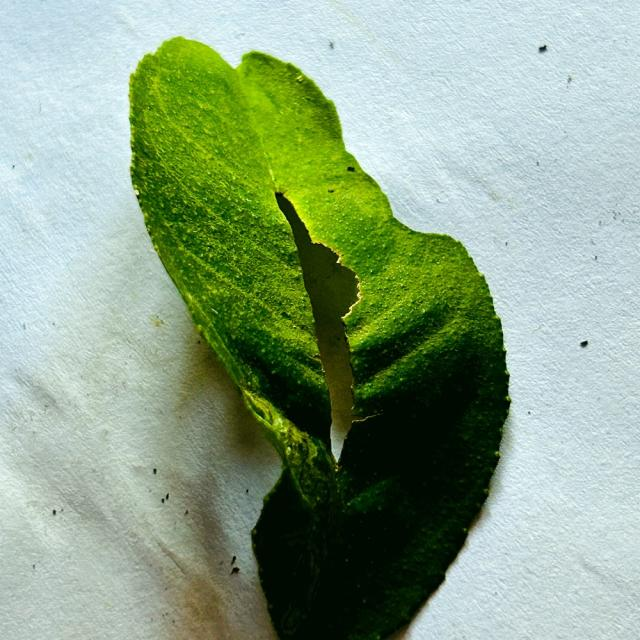Deficiency Leaf: (276, 193, 358, 447)
Lemon: (130, 37, 509, 639)
